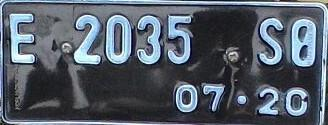0: (104, 14, 134, 68)
2: (73, 12, 106, 68)
3: (128, 14, 166, 68)
5: (163, 18, 201, 68)
E: (5, 10, 45, 68)
O: (287, 18, 320, 70)
S: (254, 15, 292, 70)
